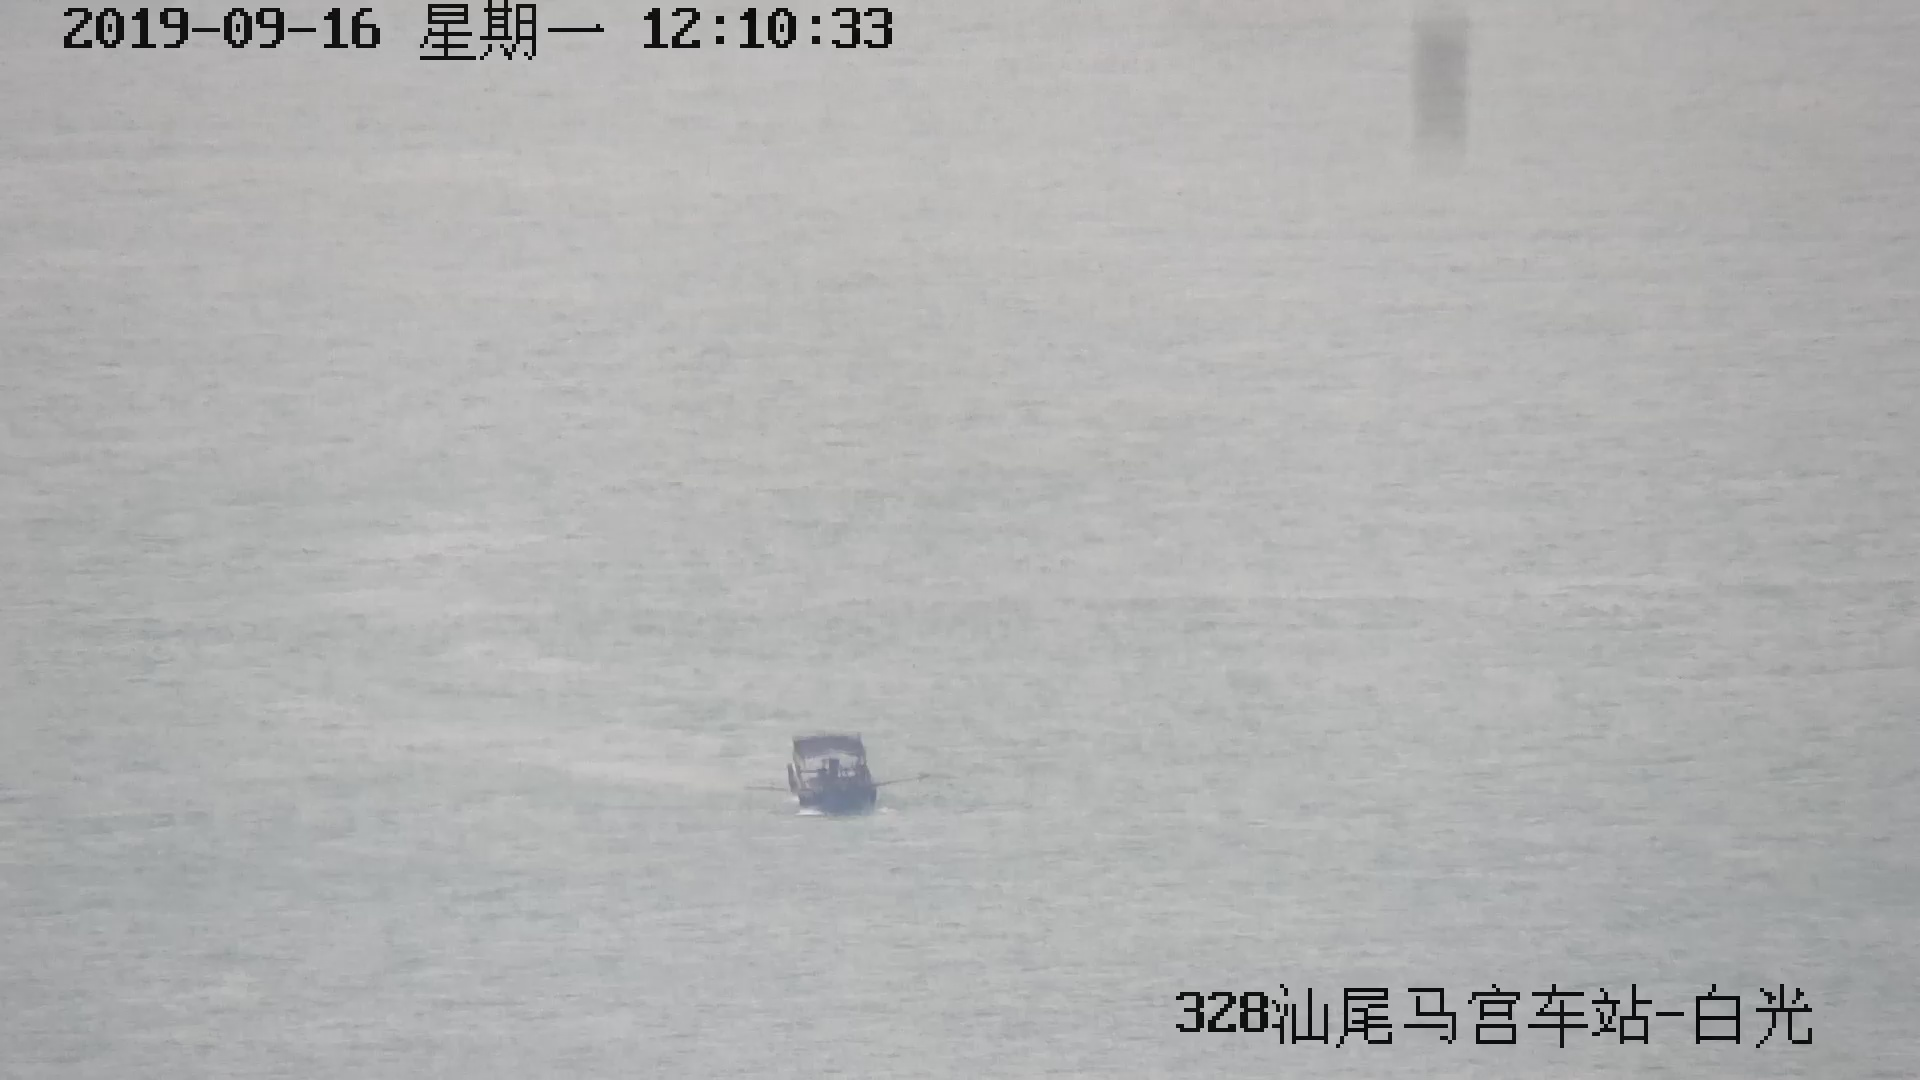ship: (789, 736, 877, 818)
